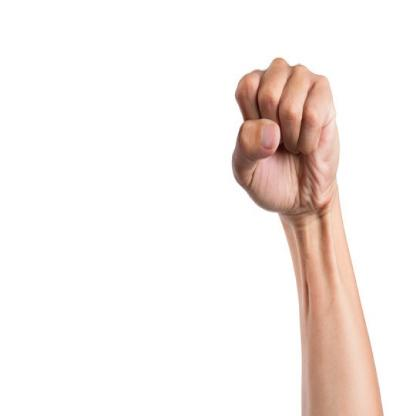fist: (232, 56, 342, 226)
